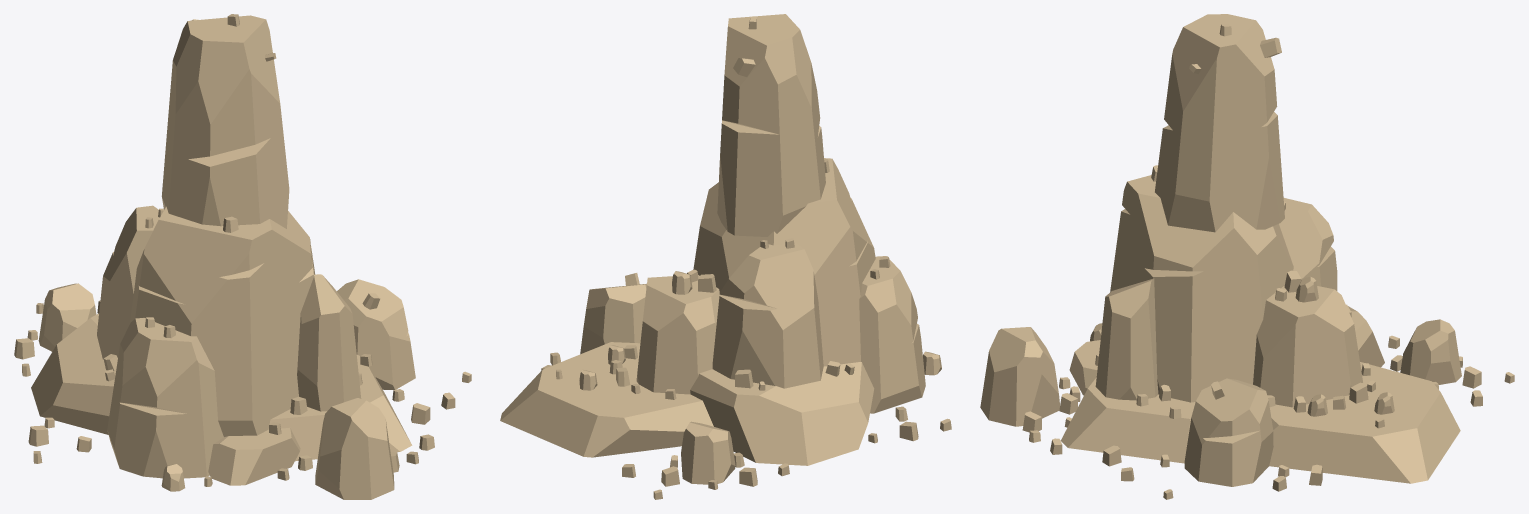
The model's file is roca5.glb.
3 renders of one model, left to right at view 1: azimuth 30°, elevation 25°; view 2: azimuth 150°, elevation 25°; view 3: azimuth 270°, elevation 25°, orthographic. The views are drawn at different scales.
Parts seen in each view (by area): view 1: big_rock_05_Cylinder_200; view 2: big_rock_05_Cylinder_200; view 3: big_rock_05_Cylinder_200.
Part boxes in pixels (x1,y1,x2,y2): big_rock_05_Cylinder_200: (14,14,471,499); big_rock_05_Cylinder_200: (500,14,951,499); big_rock_05_Cylinder_200: (980,14,1514,499).
Bounding box in the file's own units: 2.72 × 2.48 × 3.17.
